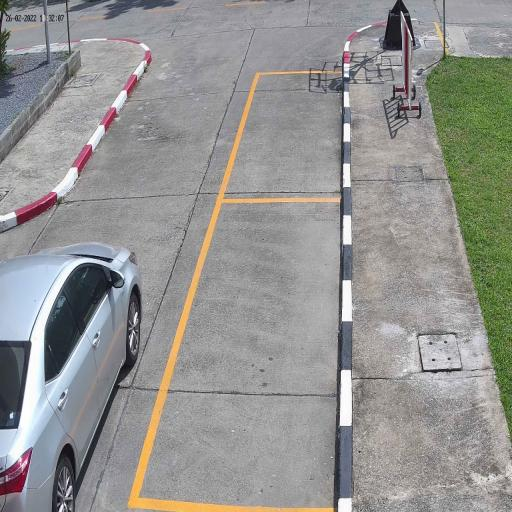car: (0, 240, 146, 508)
